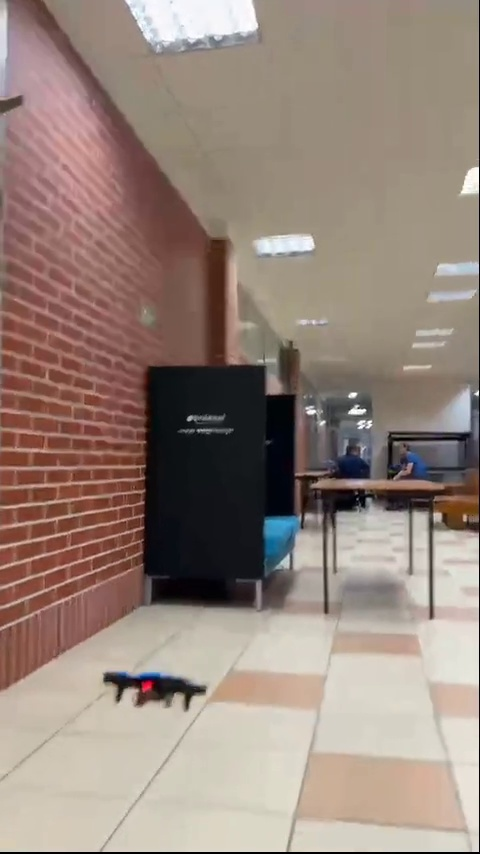drone: (103, 672, 210, 703)
no vest: (382, 443, 441, 487), (334, 439, 365, 487)
